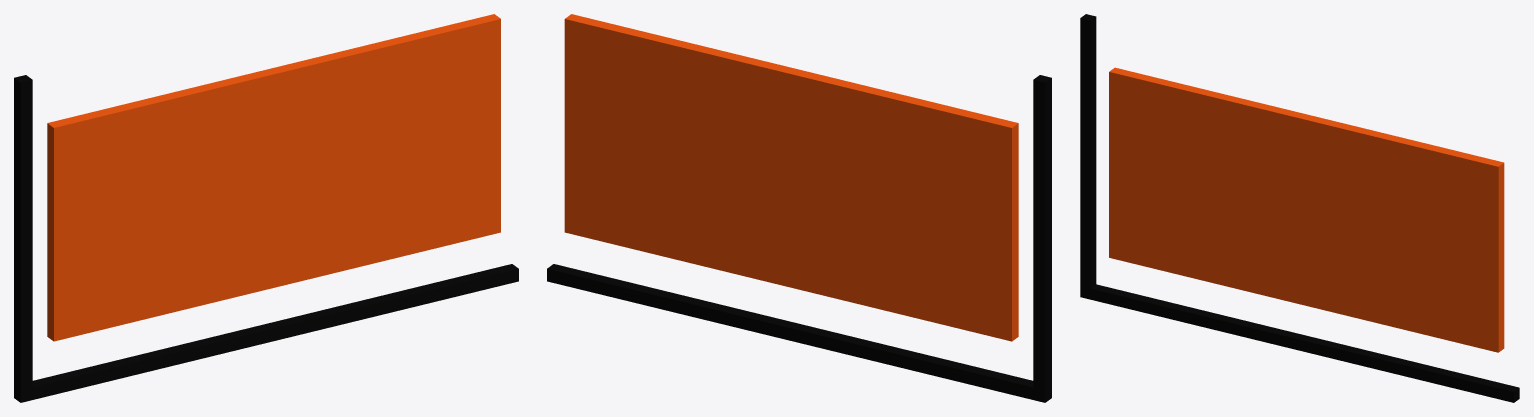
Rendered from rectangulo.fbx.
3 views of the same model, side by side, from view 1: azimuth 30°, elevation 25°; view 2: azimuth 150°, elevation 25°; view 3: azimuth 330°, elevation 25° (orthographic). The views are drawn at different scales.
Visible parts, largest first — view 1: Mesh_0.001, Mesh_1.001; view 2: Mesh_0.001, Mesh_1.001; view 3: Mesh_0.001, Mesh_1.001.
Part boxes in pixels (x1,y1,x2,y2): Mesh_0.001: (47, 14, 500, 341); Mesh_1.001: (14, 75, 518, 402); Mesh_0.001: (564, 14, 1018, 341); Mesh_1.001: (547, 75, 1051, 402); Mesh_0.001: (1109, 67, 1504, 352); Mesh_1.001: (1080, 14, 1519, 402).
Size of the model in its own units: 9.76 by 6 by 0.2281.
